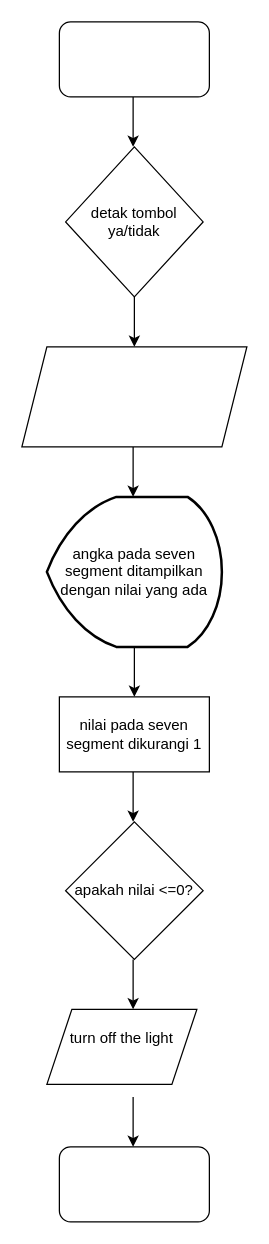
This 269x1244 diagram has some shape labels left out. The centre of each missing label's shape, as x and y in pixels:
"END" goes at (x=133, y=1184).
"set status menjadi sedang melakukan count down" goes at (x=134, y=396).
"START" goes at (x=133, y=59).
